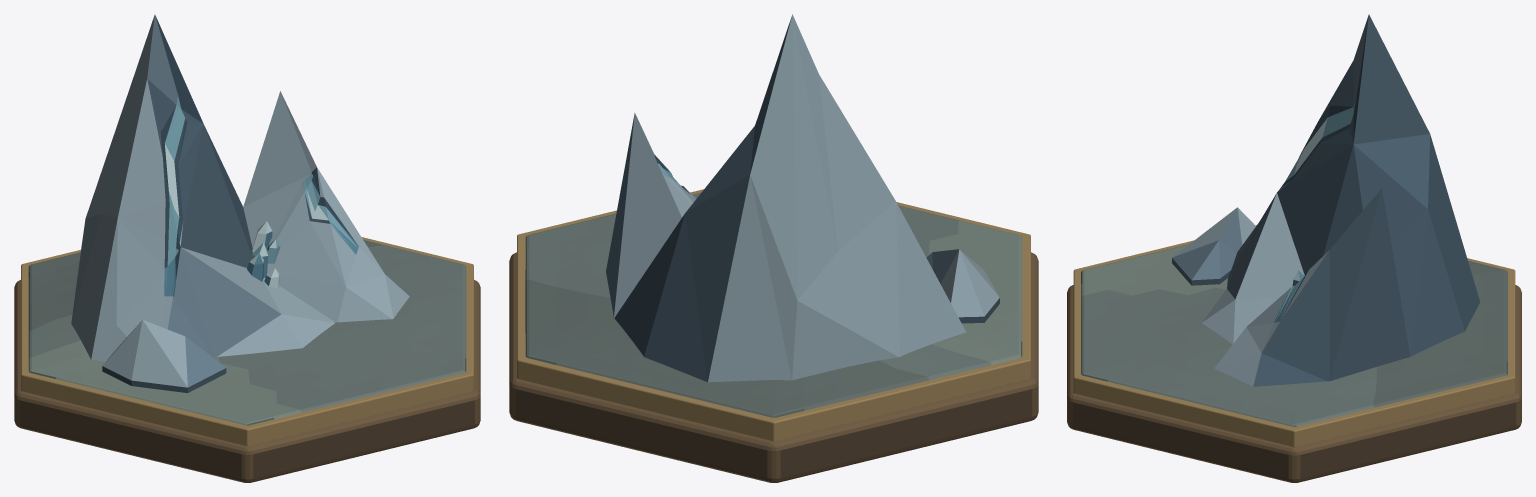
Rendered from mountains.glb.
3 views of the same model, side by side, from view 1: azimuth 30°, elevation 25°; view 2: azimuth 150°, elevation 25°; view 3: azimuth 270°, elevation 25° (orthographic). The views are drawn at different scales.
Visible parts, largest first — view 1: Hex_Mountains_Main_Mountain, Hex_Mountains_Terrain, Hex_Mountains_Base, Hex_Mountains_Rim, Hex_Mountains_Broken_Foothill_Ridge, Hex_Mountains_Ore_Exposure; view 2: Hex_Mountains_Main_Mountain, Hex_Mountains_Terrain, Hex_Mountains_Base, Hex_Mountains_Rim, Hex_Mountains_Broken_Foothill_Ridge; view 3: Hex_Mountains_Main_Mountain, Hex_Mountains_Terrain, Hex_Mountains_Base, Hex_Mountains_Rim, Hex_Mountains_Broken_Foothill_Ridge.
Part boxes in pixels (x1,y1,x2,y2): Hex_Mountains_Main_Mountain: (71, 14, 409, 361); Hex_Mountains_Terrain: (28, 240, 466, 425); Hex_Mountains_Base: (14, 280, 480, 482); Hex_Mountains_Rim: (21, 237, 473, 445); Hex_Mountains_Broken_Foothill_Ridge: (102, 319, 226, 392); Hex_Mountains_Ore_Exposure: (247, 221, 280, 288); Hex_Mountains_Main_Mountain: (606, 14, 965, 382); Hex_Mountains_Terrain: (525, 193, 1022, 417); Hex_Mountains_Base: (509, 252, 1038, 482); Hex_Mountains_Rim: (517, 189, 1030, 441); Hex_Mountains_Broken_Foothill_Ridge: (926, 249, 999, 323); Hex_Mountains_Main_Mountain: (1202, 14, 1479, 386); Hex_Mountains_Terrain: (1081, 244, 1507, 426); Hex_Mountains_Base: (1067, 285, 1521, 482); Hex_Mountains_Rim: (1073, 225, 1515, 446); Hex_Mountains_Broken_Foothill_Ridge: (1172, 207, 1255, 285).
Size of the model in its own units: 2.38 by 1.69 by 2.08.
